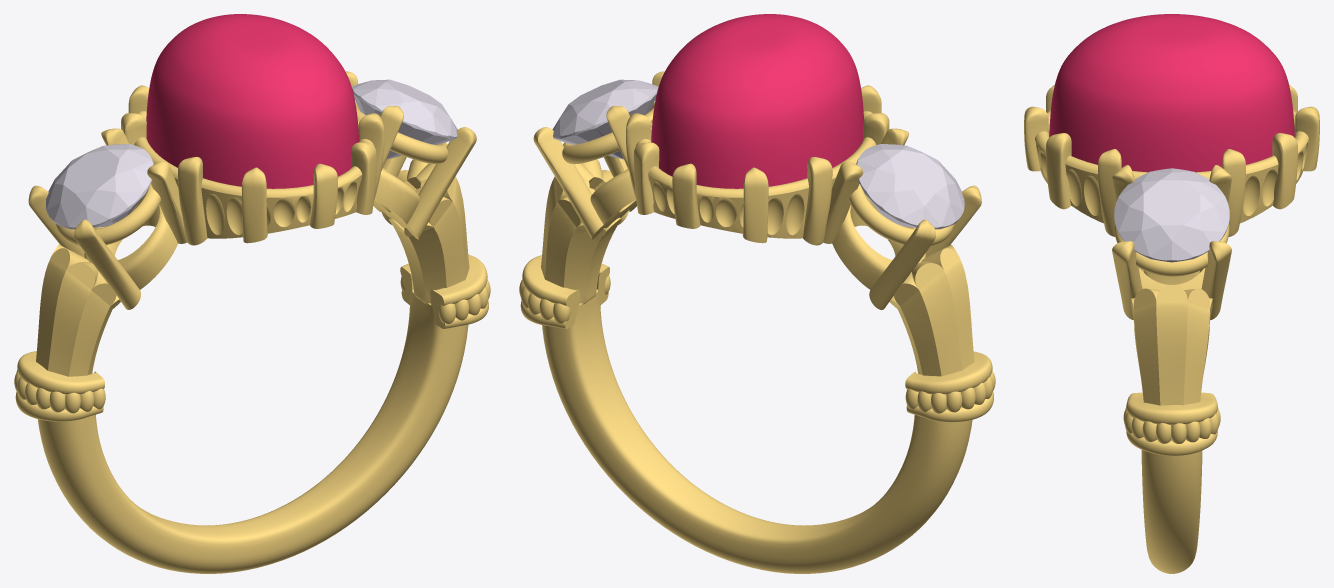
File: NickV1antiqueYG_blender.glb
3 views of the same model, side by side, from view 1: azimuth 30°, elevation 25°; view 2: azimuth 150°, elevation 25°; view 3: azimuth 270°, elevation 25° (orthographic). The views are drawn at different scales.
Visible parts, largest first — view 1: Nicholas YG for 3d model, Nicholas ruby for 3d model, Nicholas dia for 3d model.001, Nicholas dia for 3d model; view 2: Nicholas YG for 3d model, Nicholas ruby for 3d model, Nicholas dia for 3d model.001, Nicholas dia for 3d model; view 3: Nicholas YG for 3d model, Nicholas ruby for 3d model, Nicholas dia for 3d model.
Boxes of the visible parts, bbox=[...] form: Nicholas YG for 3d model: bbox=[14, 71, 490, 573]; Nicholas ruby for 3d model: bbox=[146, 14, 359, 188]; Nicholas dia for 3d model.001: bbox=[46, 144, 153, 229]; Nicholas dia for 3d model: bbox=[352, 79, 457, 159]; Nicholas YG for 3d model: bbox=[519, 71, 995, 573]; Nicholas ruby for 3d model: bbox=[651, 14, 863, 188]; Nicholas dia for 3d model.001: bbox=[856, 144, 964, 229]; Nicholas dia for 3d model: bbox=[552, 79, 658, 159]; Nicholas YG for 3d model: bbox=[1024, 85, 1319, 573]; Nicholas ruby for 3d model: bbox=[1049, 14, 1294, 172]; Nicholas dia for 3d model: bbox=[1114, 168, 1229, 262].
Bounding box in the file's own units: 21.25 × 23.39 × 12.03.
